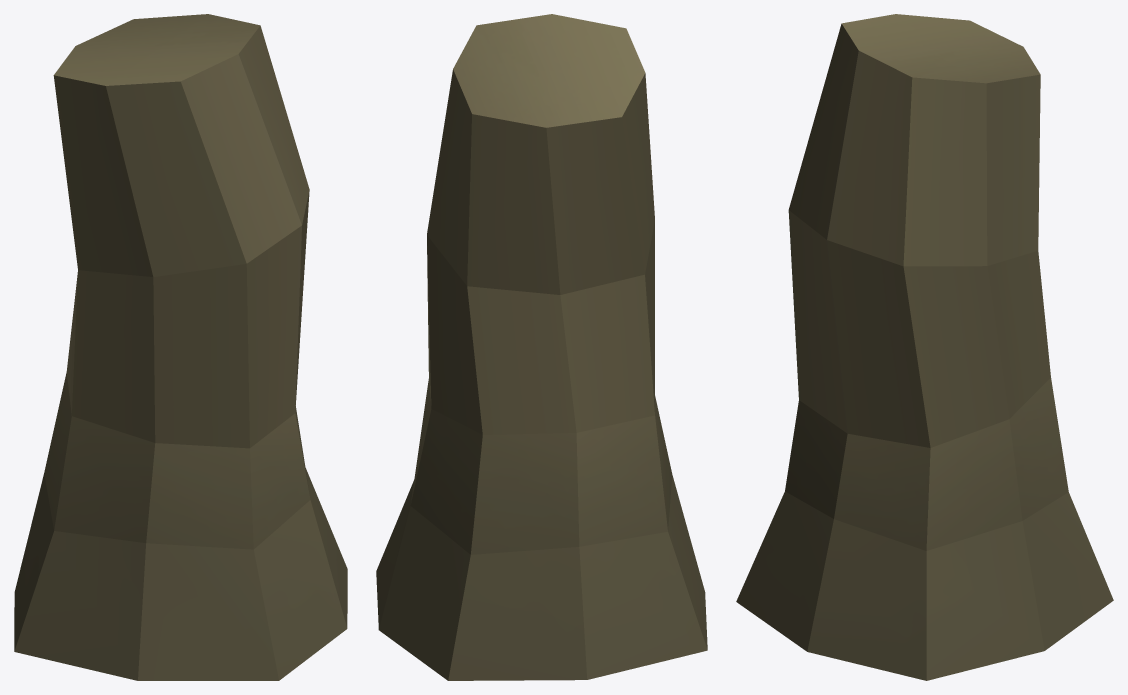
File: obsTrunk_02.fbx
The picture shows the model from 3 angles, left to right: view 1: azimuth 30°, elevation 25°; view 2: azimuth 150°, elevation 25°; view 3: azimuth 270°, elevation 25°; orthographic projection. The views are drawn at different scales.
Visible parts, largest first — view 1: obsTrunk_02; view 2: obsTrunk_02; view 3: obsTrunk_02.
Boxes of the visible parts, x1,y1,x2,y2 form: obsTrunk_02: (14, 14, 347, 680); obsTrunk_02: (376, 14, 707, 680); obsTrunk_02: (736, 14, 1113, 680).
Bounding box in the file's own units: 321 × 528 × 321.
1 material, 1 textured.
